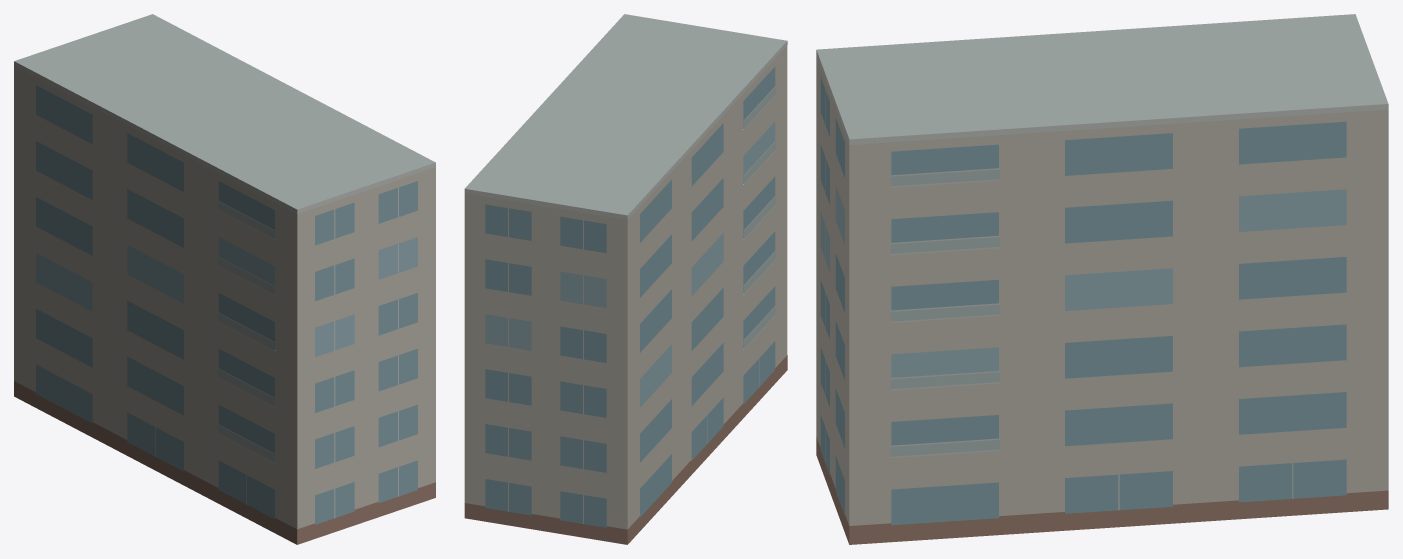
Rendered from survey-upis-32574338.glb.
3 views of the same model, side by side, from view 1: azimuth 30°, elevation 25°; view 2: azimuth 150°, elevation 25°; view 3: azimuth 270°, elevation 25° (orthographic). The views are drawn at different scales.
Parts seen in each view (by area): view 1: survey-upis-32574338.tmp; view 2: survey-upis-32574338.tmp; view 3: survey-upis-32574338.tmp.
Part boxes in pixels (x1,y1,x2,y2): survey-upis-32574338.tmp: (14,14,435,544); survey-upis-32574338.tmp: (464,14,787,544); survey-upis-32574338.tmp: (816,14,1388,544).
Size of the model in its own units: 11.65 by 17.55 by 22.45.
